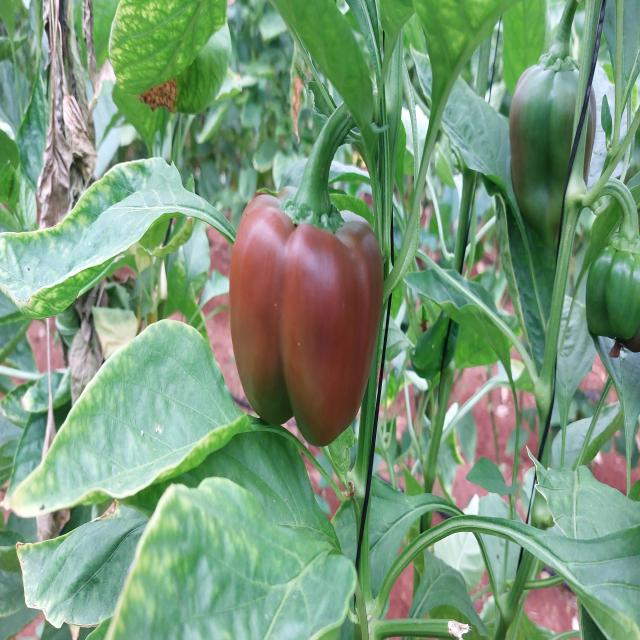BrownishRed--Can-be-Harvested: (230, 182, 389, 442), (508, 69, 609, 253), (580, 246, 634, 364)
